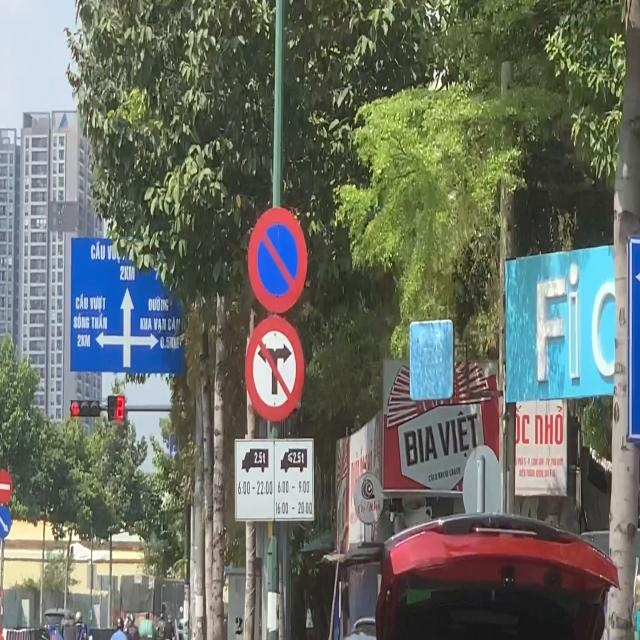bien_chi_dan: (244, 316, 305, 422), (248, 207, 308, 314), (0, 469, 12, 504), (0, 503, 11, 539)
